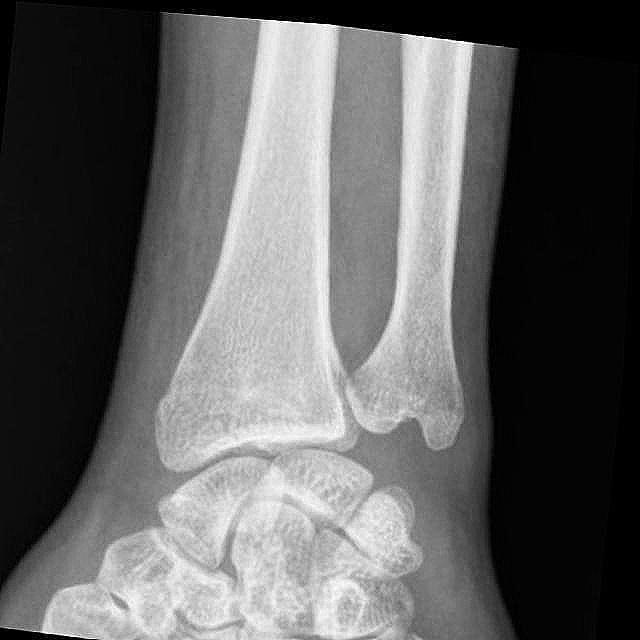bone: (152, 238, 348, 461)
